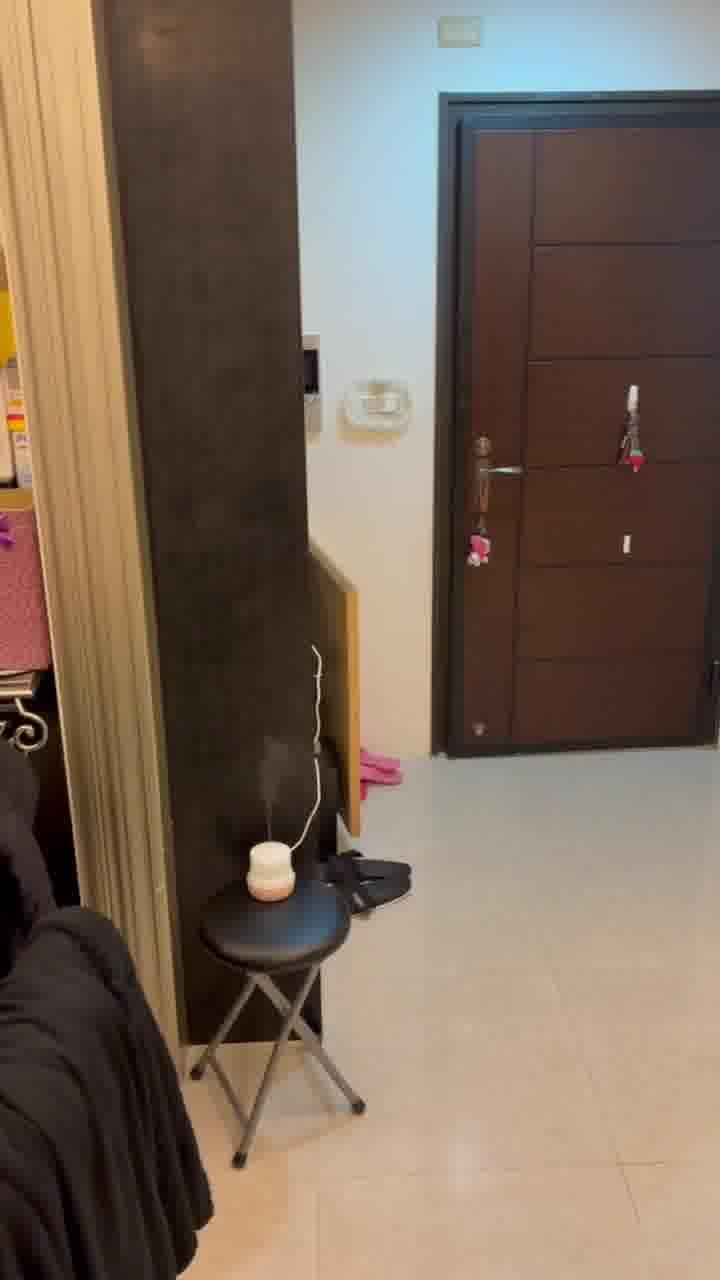smoke: (245, 735, 299, 820)
